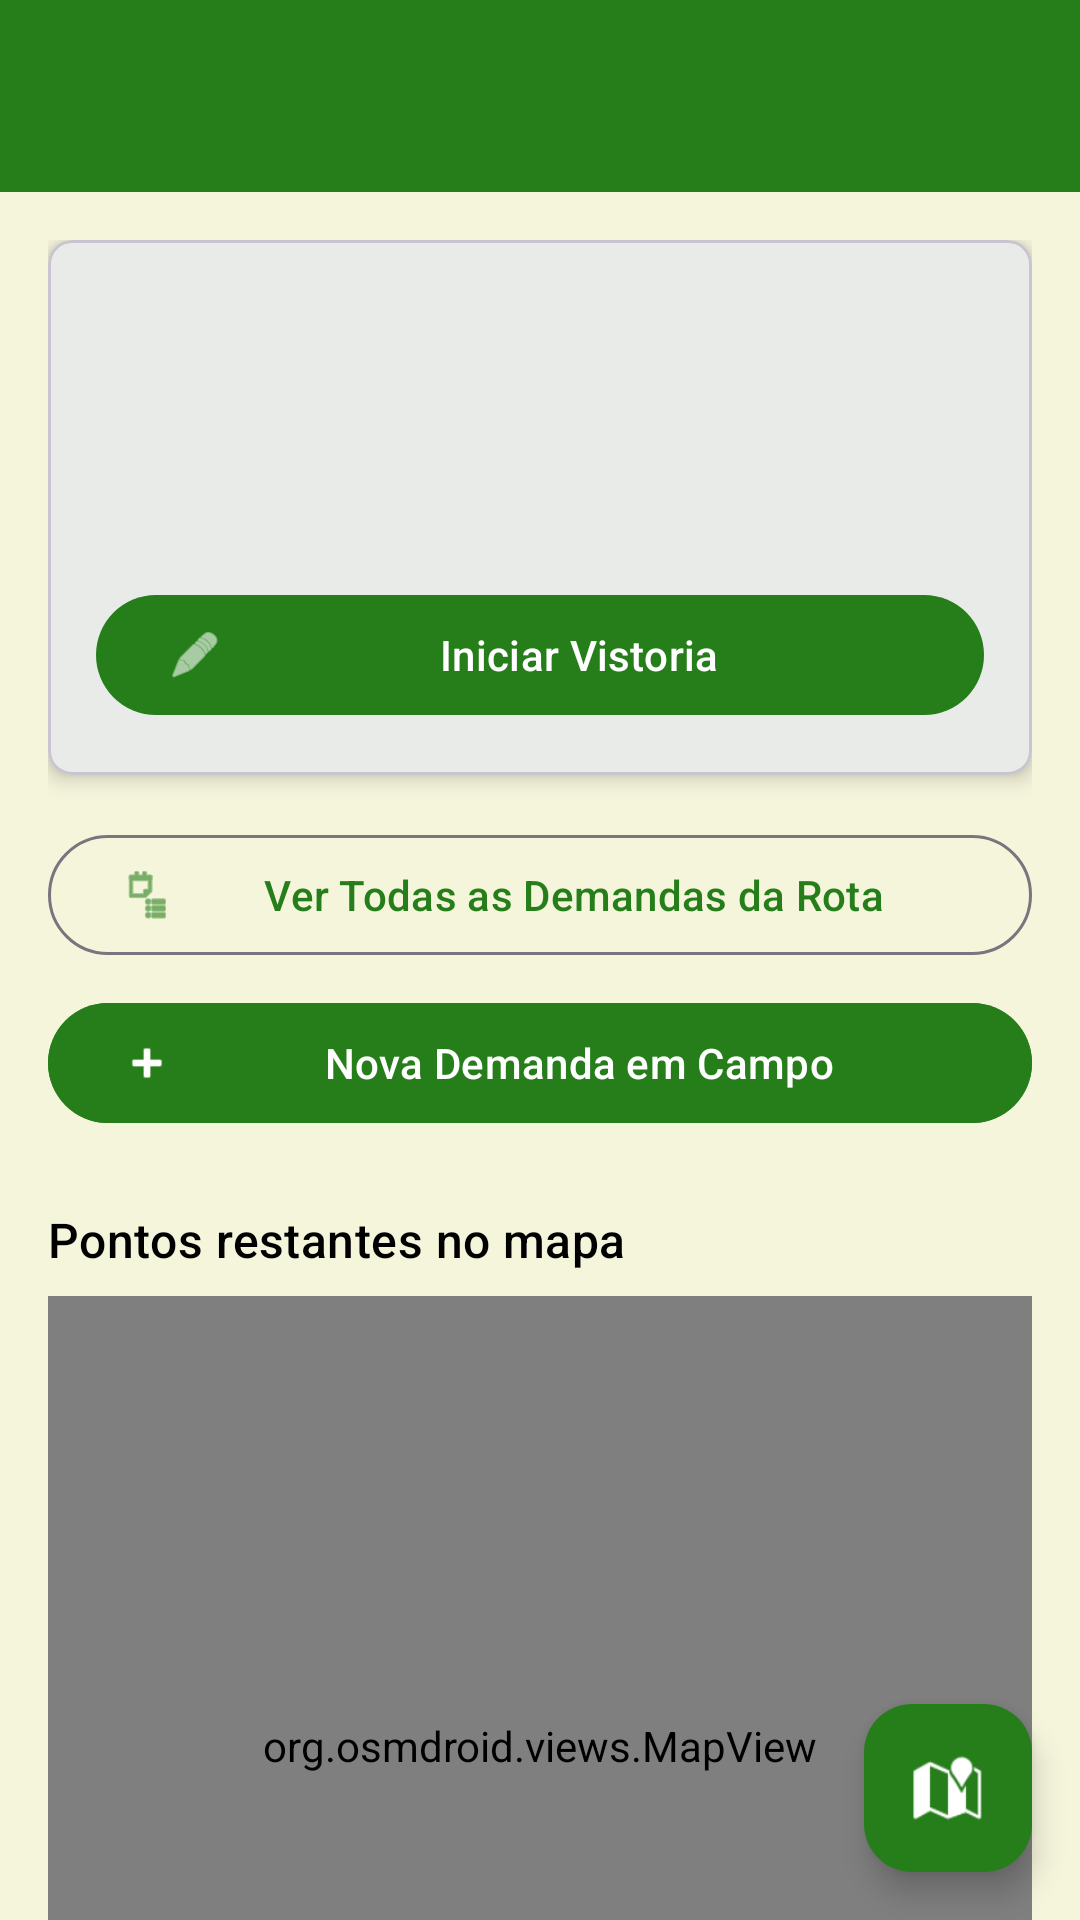

Point at icon controls on the screen. Image size 1080px×1920px, points as point (x, y).
Iniciar Rota no Google Maps: point (948, 1788)
